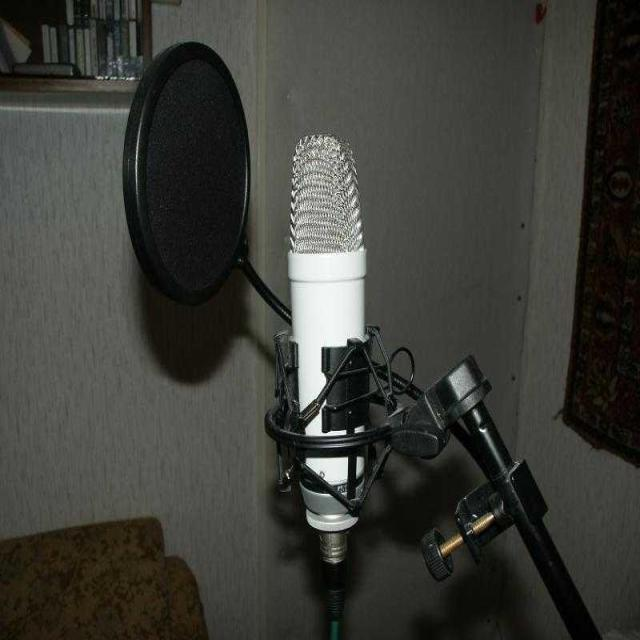microphone: (287, 132, 366, 535)
